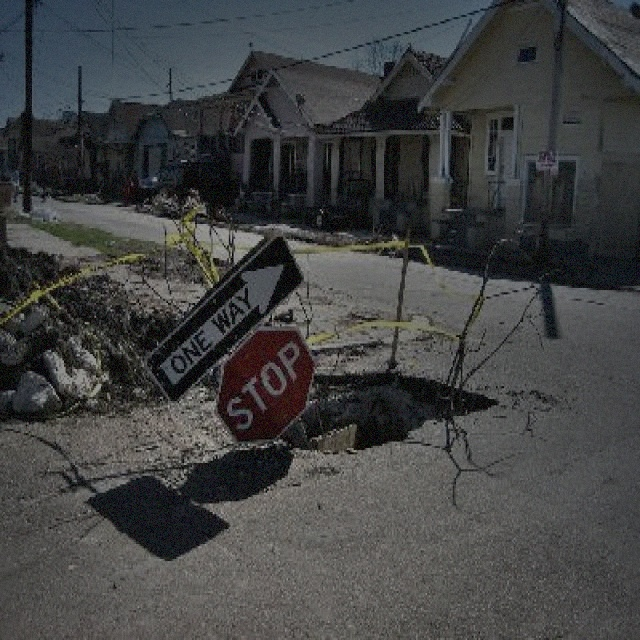pothole: (270, 358, 502, 456)
